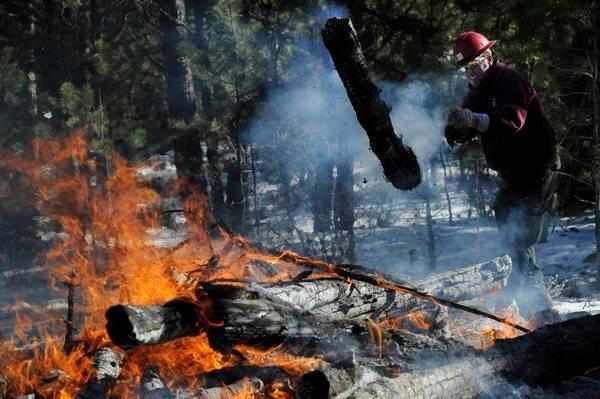fire: (5, 121, 521, 397)
